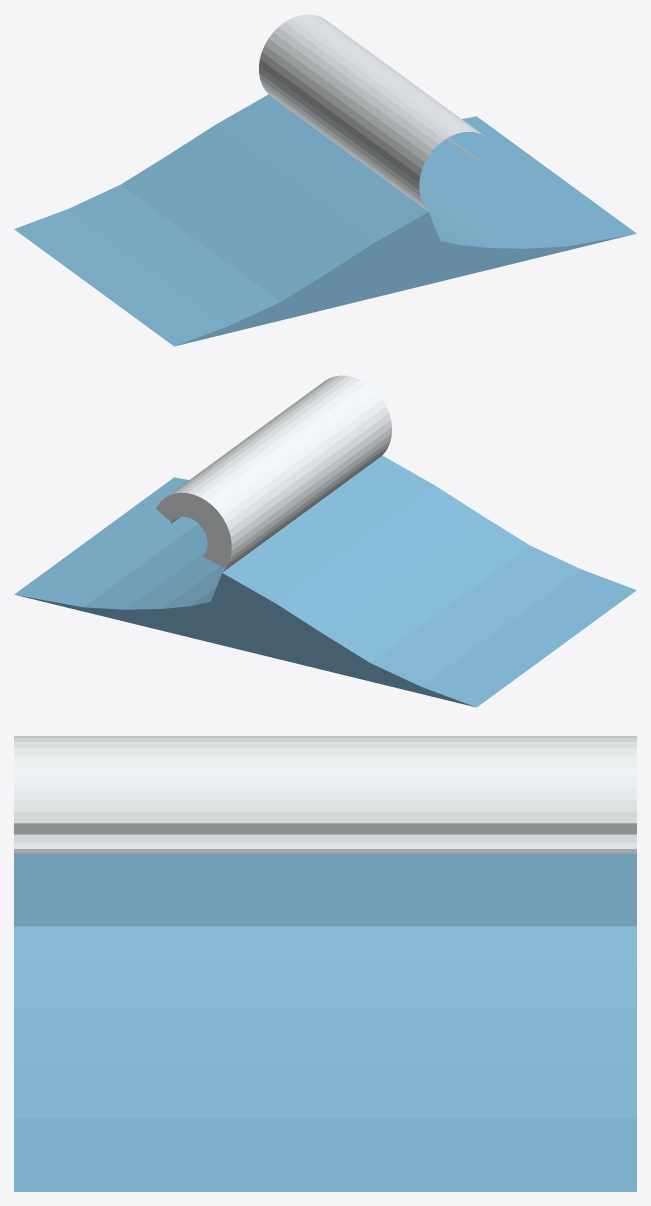
The model's file is wave.glb.
3 renders of one model, top to bottom at view 1: azimuth 30°, elevation 25°; view 2: azimuth 150°, elevation 25°; view 3: azimuth 270°, elevation 25°, orthographic. The views are drawn at different scales.
Visible parts, largest first — view 1: Wave; view 2: Wave; view 3: Wave.
Boxes of the visible parts, x1,y1,x2,y2 form: Wave: (14,14,636,346); Wave: (14,375,636,707); Wave: (14,736,636,1191).
Bounding box in the file's own units: 2 × 0.5941 × 1.2.
